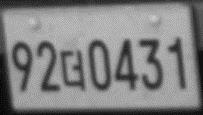0: (87, 39, 113, 90)
1: (165, 36, 194, 91)
2: (35, 41, 61, 92)
3: (139, 38, 164, 91)
4: (113, 39, 140, 90)
9: (10, 41, 33, 93)
더: (59, 49, 87, 91)
